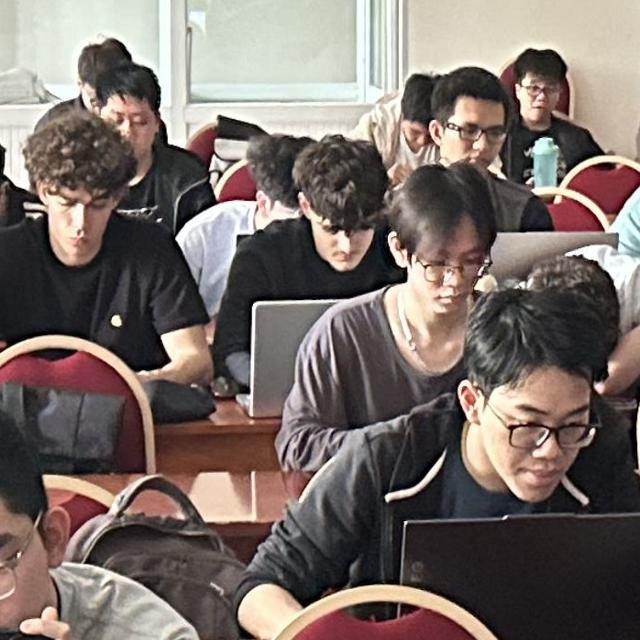Looking away: (460, 319, 590, 492), (1, 425, 90, 640), (30, 128, 138, 263), (393, 170, 485, 316), (296, 161, 377, 283), (437, 71, 510, 195), (398, 70, 438, 163)
Looking forward: (513, 31, 579, 140)
